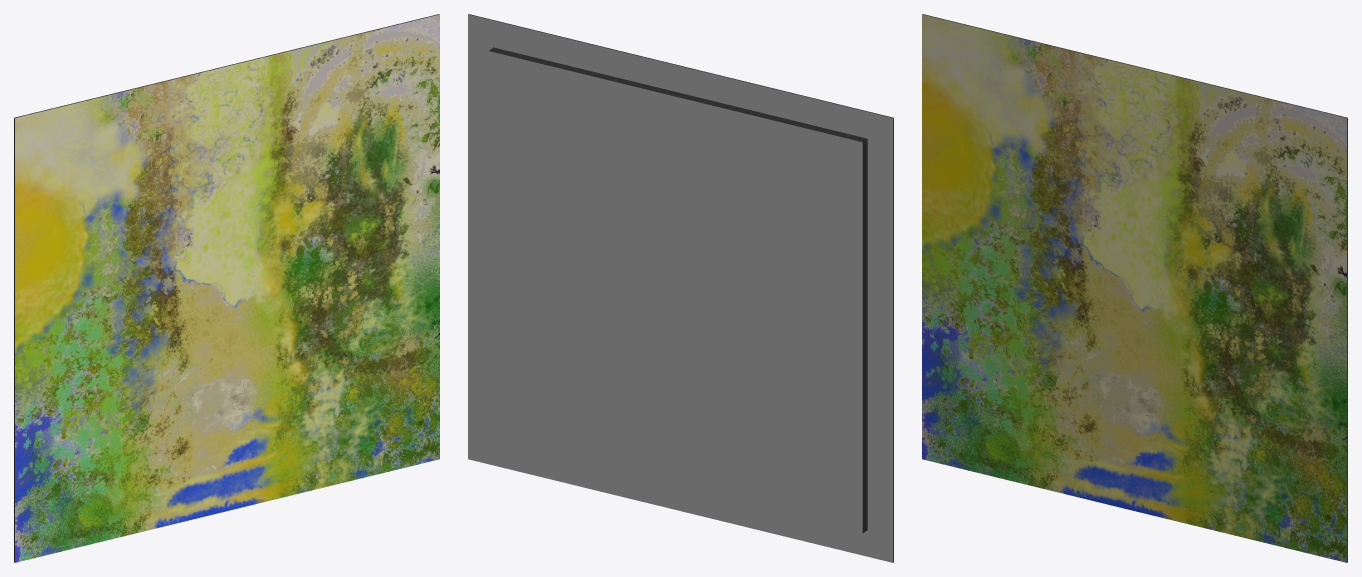
Rendered from va231_grand_dibond.glb.
The picture shows the model from 3 angles, left to right: view 1: azimuth 30°, elevation 25°; view 2: azimuth 150°, elevation 25°; view 3: azimuth 330°, elevation 25°; orthographic projection.
Visible parts, largest first — view 1: va231_grand_dibond; view 2: va231_grand_dibond; view 3: va231_grand_dibond.
Part boxes in pixels (x1,y1,x2,y2): va231_grand_dibond: [14, 14, 439, 562]; va231_grand_dibond: [468, 14, 893, 562]; va231_grand_dibond: [922, 14, 1347, 562].
Size of the model in its own units: 1 by 1 by 0.023.
Materials: 4 (1 with a texture image).
